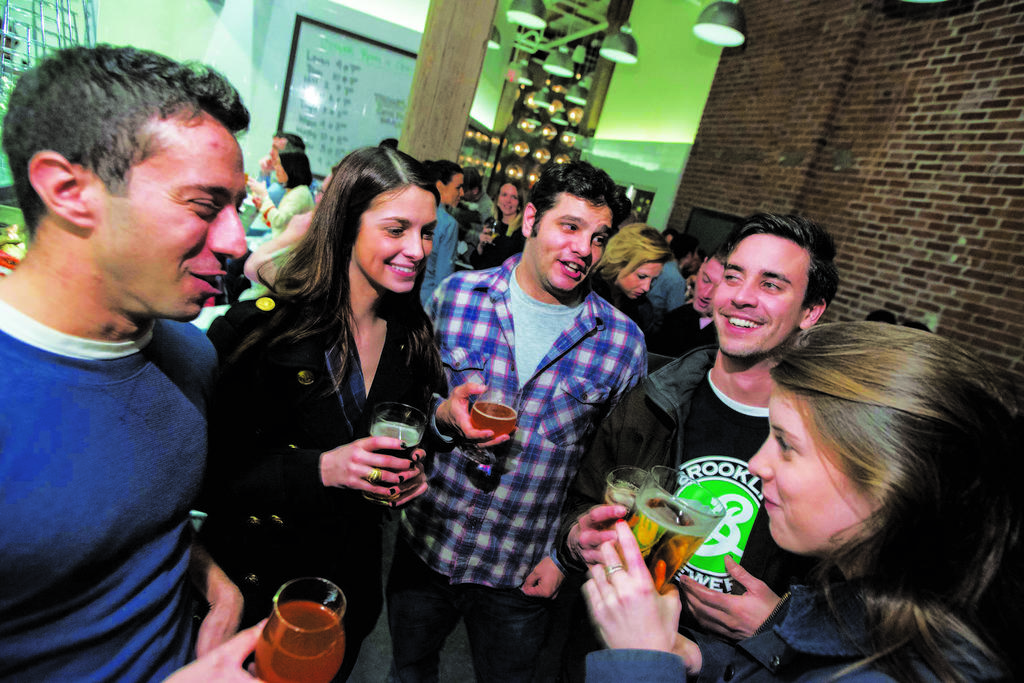Beer: (622, 496, 714, 593), (254, 598, 347, 682), (472, 387, 521, 432)
